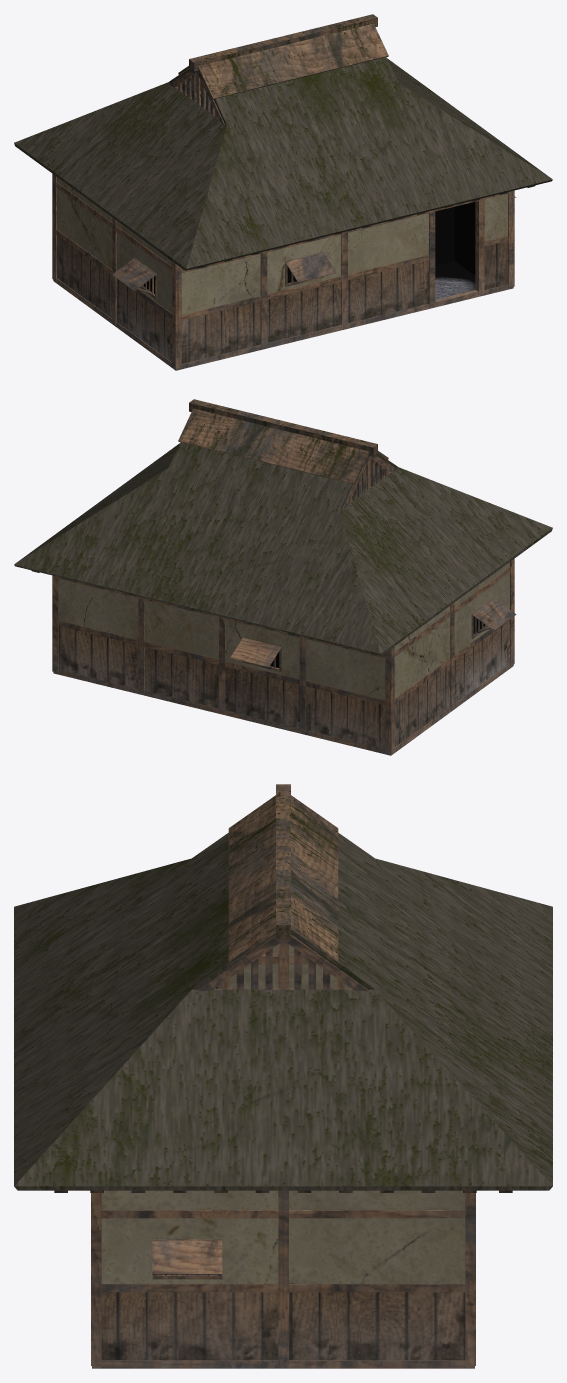
3 renders of one model, top to bottom at view 1: azimuth 30°, elevation 25°; view 2: azimuth 150°, elevation 25°; view 3: azimuth 270°, elevation 25°, orthographic. The views are drawn at different scales.
Visible parts, largest first — view 1: 屋根, 壁, 柱, 中, 窓, 屋根の支柱; view 2: 屋根, 壁, 柱, 窓, 屋根の支柱; view 3: 屋根, 壁, 柱, 屋根の支柱, 窓.
Boxes of the visible parts, <box> form: 屋根: <box>14,14,552,270</box>; 壁: <box>57,90,507,363</box>; 柱: <box>52,109,514,370</box>; 中: <box>435,202,475,299</box>; 窓: <box>112,196,516,299</box>; 屋根の支柱: <box>169,69,535,268</box>; 屋根: <box>14,399,552,655</box>; 壁: <box>58,475,509,748</box>; 柱: <box>52,495,514,755</box>; 窓: <box>230,598,516,671</box>; 屋根の支柱: <box>31,454,397,653</box>; 屋根: <box>14,784,552,1190</box>; 壁: <box>101,944,465,1360</box>; 柱: <box>91,943,475,1368</box>; 屋根の支柱: <box>54,935,512,1192</box>; 窓: <box>152,984,222,1279</box>.
Bounding box in the file's own units: 7.92 × 4.88 × 6.19.
